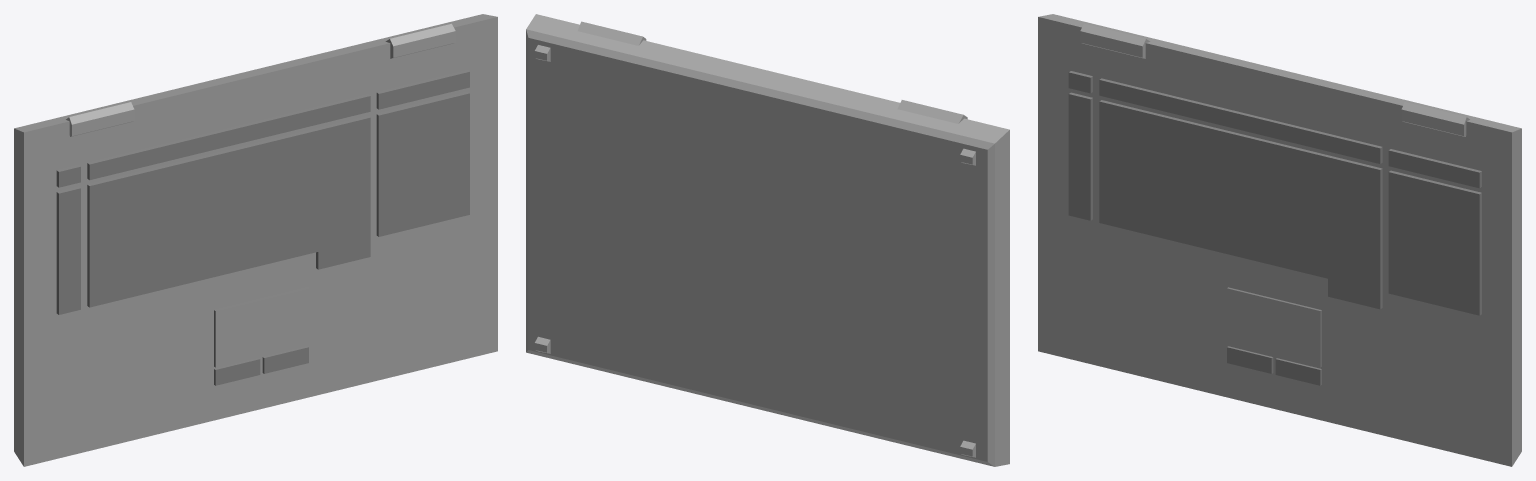
Rendered from Laptop_Base.obj.
The picture shows the model from 3 angles, left to right: view 1: azimuth 30°, elevation 25°; view 2: azimuth 150°, elevation 25°; view 3: azimuth 330°, elevation 25°; orthographic projection.
Visible parts, largest first — view 1: Laptop_Base; view 2: Laptop_Base; view 3: Laptop_Base.
Boxes of the visible parts, <box> form: Laptop_Base: <box>14,14,497,466</box>; Laptop_Base: <box>526,14,1009,466</box>; Laptop_Base: <box>1038,14,1521,466</box>.
Size of the model in its own units: 0.467 by 0.3187 by 0.0361.
